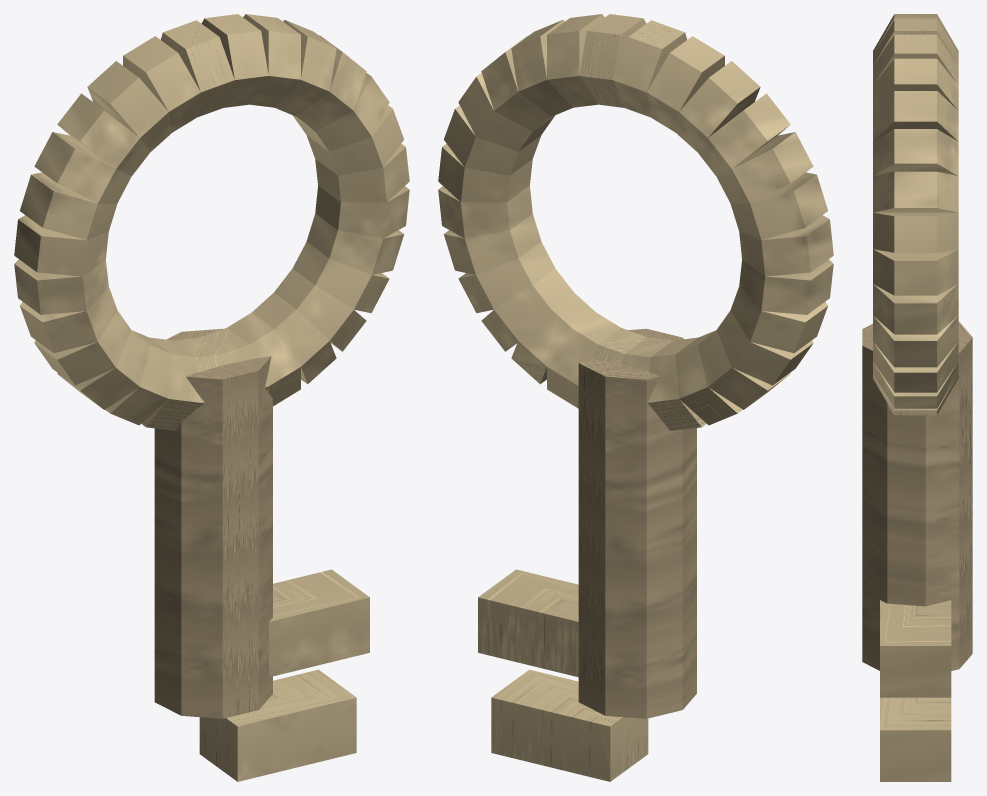
Rendered from key.glb.
3 renders of one model, left to right at view 1: azimuth 30°, elevation 25°; view 2: azimuth 150°, elevation 25°; view 3: azimuth 270°, elevation 25°, orthographic. The views are drawn at different scales.
Visible parts, largest first — view 1: brightgold, gold; view 2: brightgold, gold; view 3: brightgold, gold.
Boxes of the visible parts, x1,y1,x2,y2 form: brightgold: (14, 14, 409, 781); gold: (154, 328, 272, 718); brightgold: (438, 14, 833, 781); gold: (578, 328, 696, 718); brightgold: (873, 14, 958, 781); gold: (862, 322, 972, 670).
Bounding box in the file's own units: 0.5633 × 1.07 × 0.1552.
2 materials, 2 textured.
